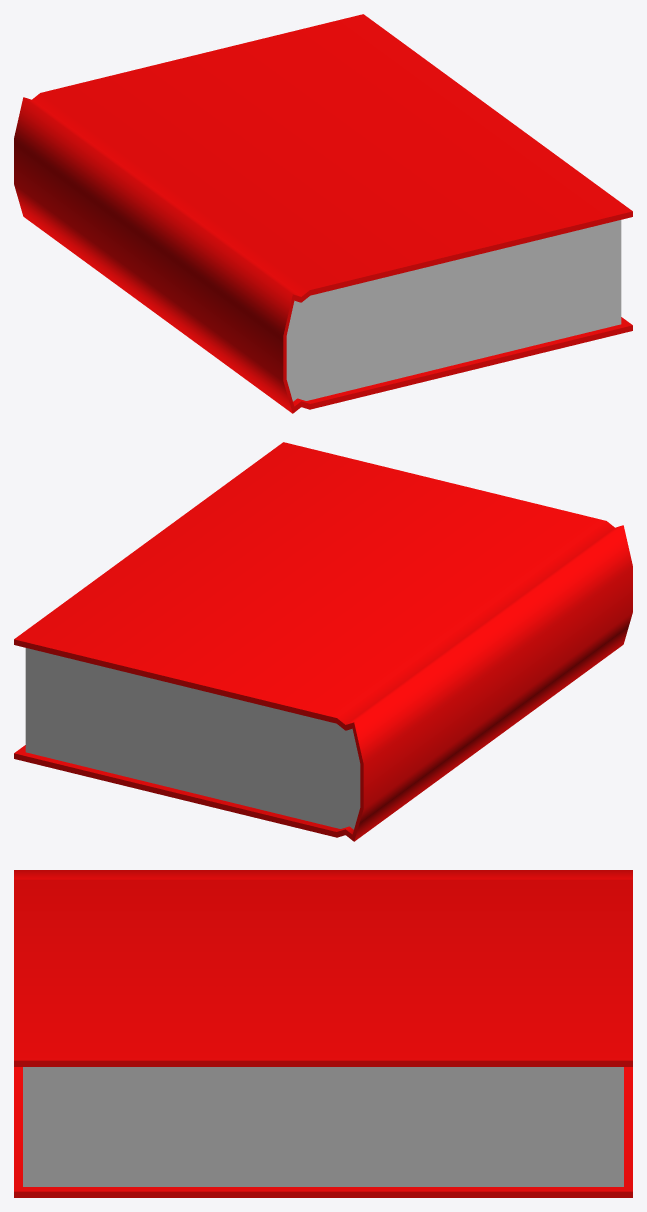
Rendered from Her_book1_ZW.fbx.
3 views of the same model, one above another, from view 1: azimuth 30°, elevation 25°; view 2: azimuth 150°, elevation 25°; view 3: azimuth 270°, elevation 25° (orthographic). The views are drawn at different scales.
Visible parts, largest first — view 1: Box004; view 2: Box004; view 3: Box004.
Boxes of the visible parts, bbox=[...] form: Box004: bbox=[14, 14, 632, 413]; Box004: bbox=[14, 442, 632, 841]; Box004: bbox=[14, 870, 632, 1197].
Bounding box in the file's own units: 2.71 × 0.8843 × 3.61.
